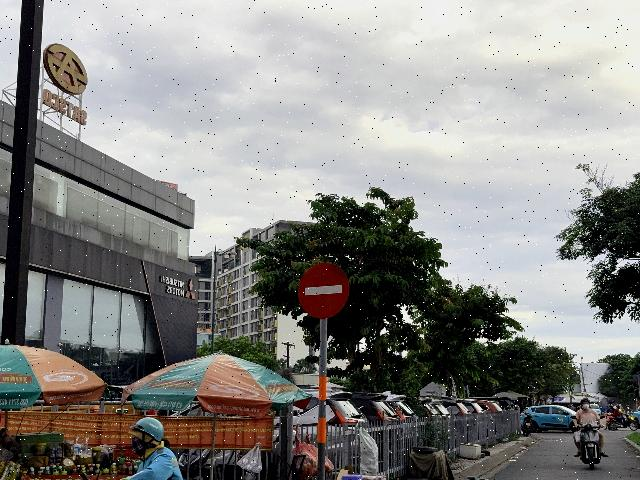cam-di-nguoc-chieu: (298, 262, 351, 318)
